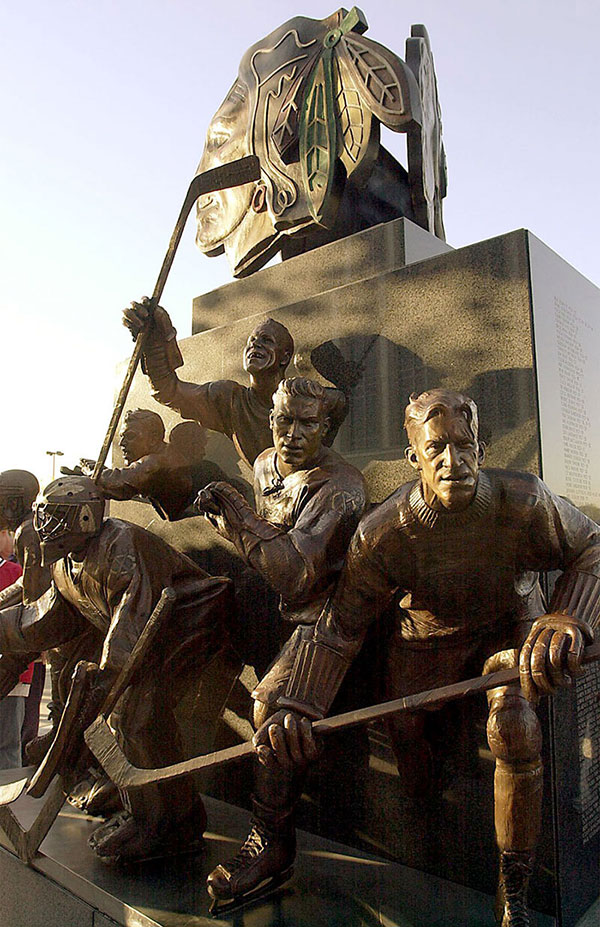person-like: (249, 379, 600, 923), (14, 471, 235, 873), (185, 370, 376, 638), (116, 280, 296, 471), (60, 408, 217, 521)
